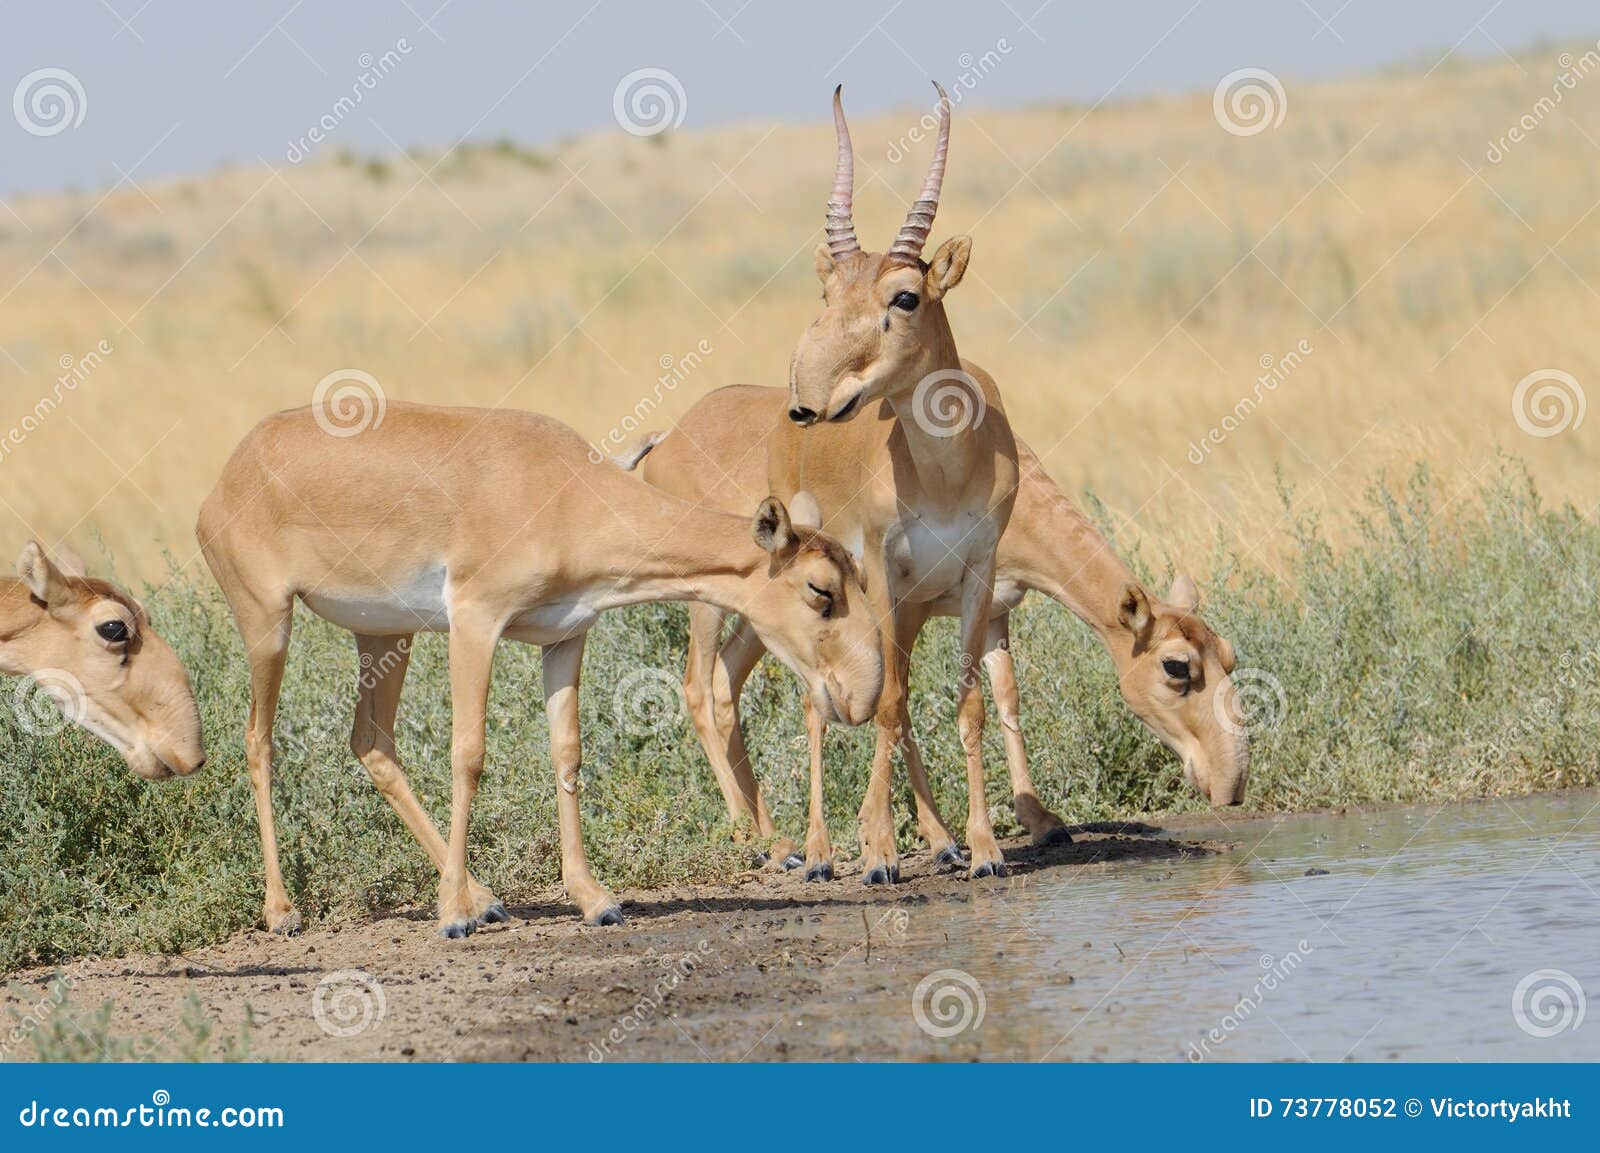saiga: (199, 386, 872, 921), (658, 62, 1019, 890)
